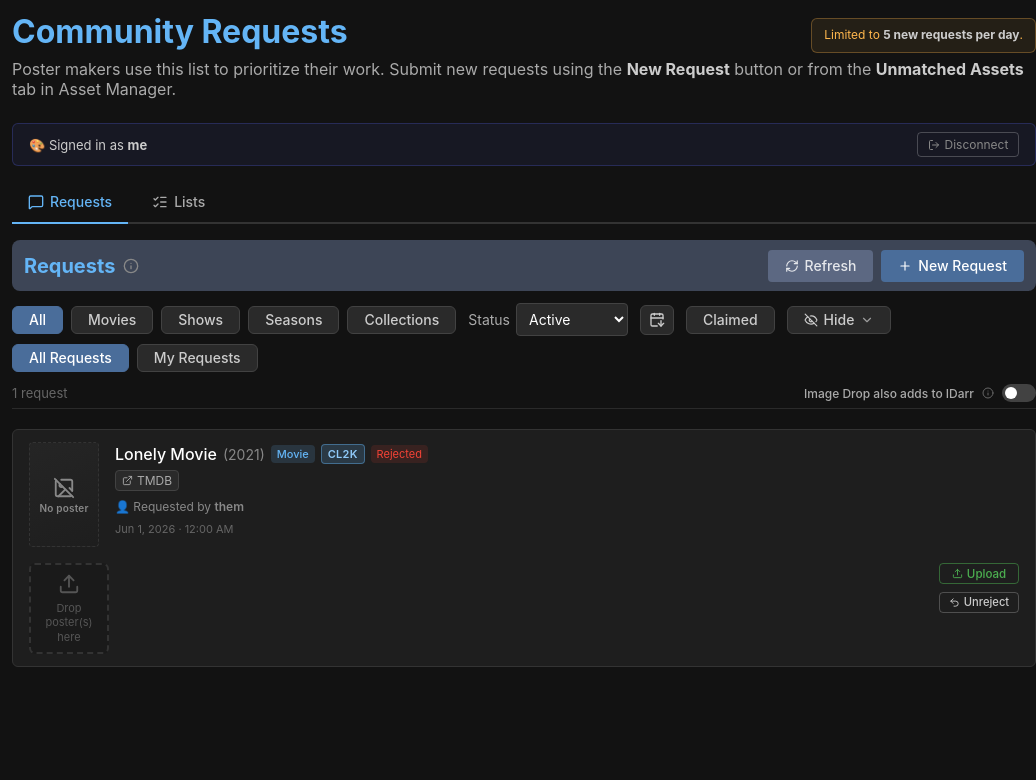
Requests page: Unreject › shows why a request could not be unrejected
The image size is (1036, 780).
Expected: the text "Lonely Movie" is shown, [115,444,217,464]
Click the button "Unreject": (979, 602) [939,592,1019,613]
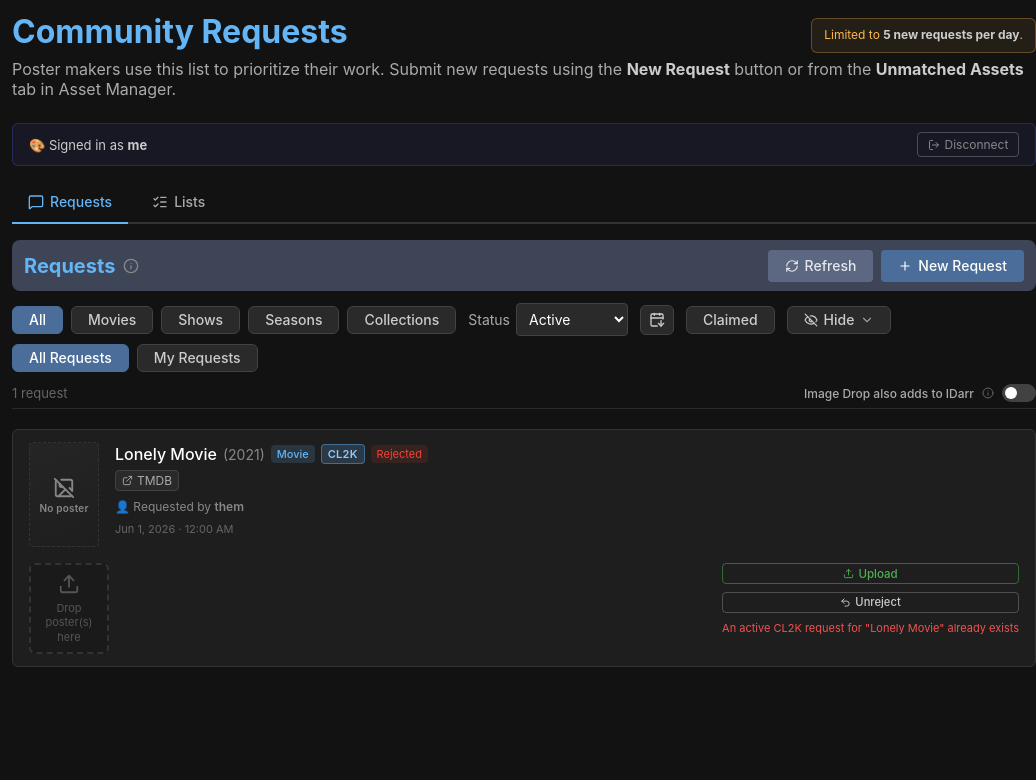
Expected: the button "Unreject" is shown, [722,592,1019,613]
Now the text "An active CL2K request for \"Lonely Movie\" already exists" is shown, box [722,621,1019,635]
